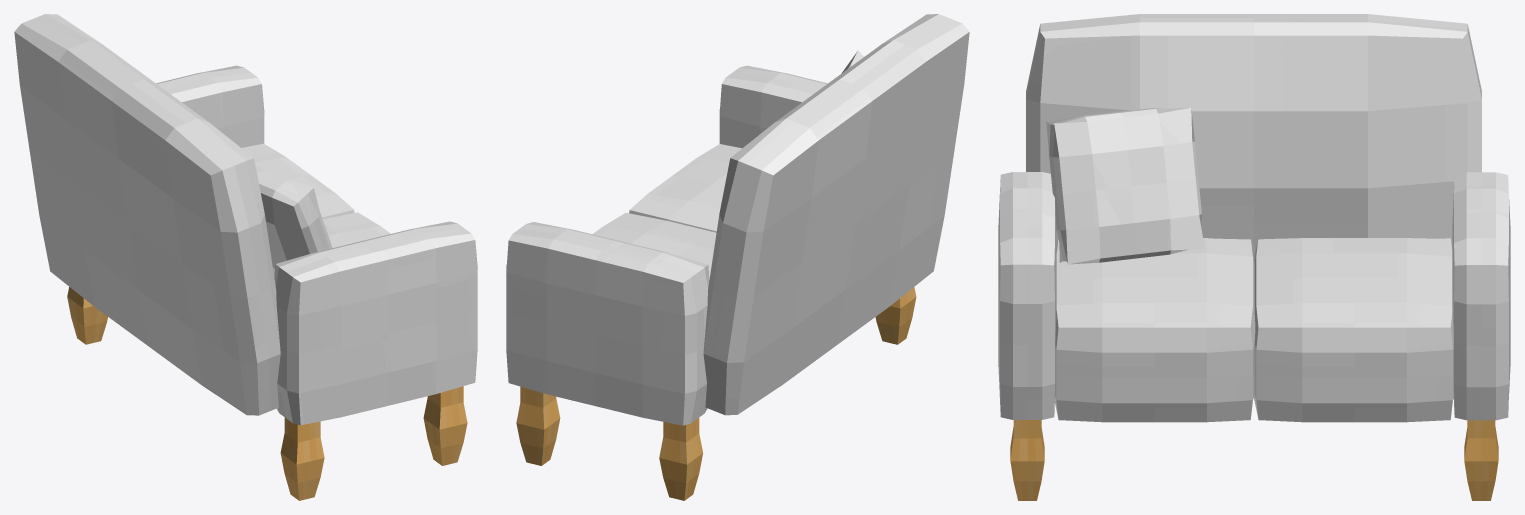
The model's file is simple_middle_sofa.obj.
3 renders of one model, left to right at view 1: azimuth 30°, elevation 25°; view 2: azimuth 150°, elevation 25°; view 3: azimuth 270°, elevation 25°, orthographic. The views are drawn at different scales.
Visible parts, largest first — view 1: Cube.002_Cube.005; view 2: Cube.002_Cube.005; view 3: Cube.002_Cube.005.
Boxes of the visible parts, x1,y1,x2,y2 form: Cube.002_Cube.005: [14, 14, 477, 500]; Cube.002_Cube.005: [506, 14, 969, 500]; Cube.002_Cube.005: [998, 14, 1510, 500].
Bounding box in the file's own units: 3.18 × 4.23 × 5.25.
